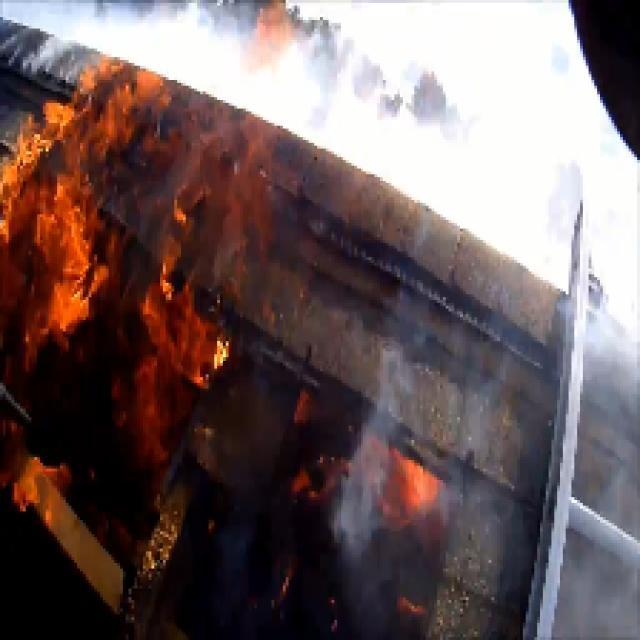Fire: (4, 104, 239, 427)
